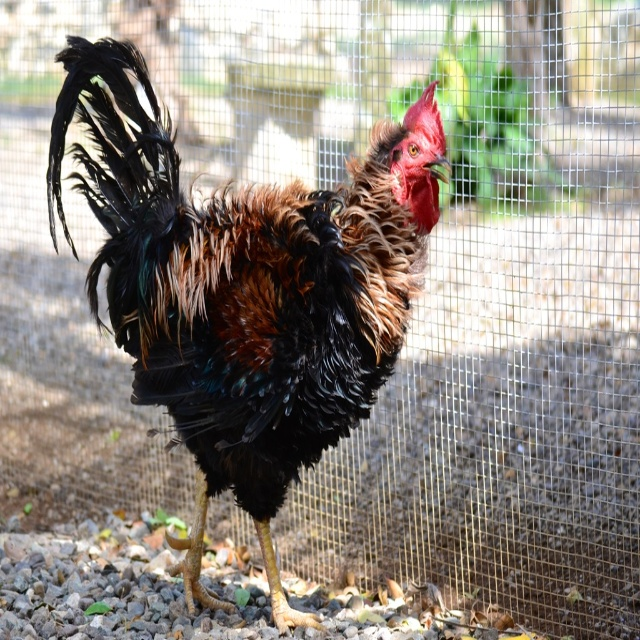Chicken: (41, 26, 452, 632)
